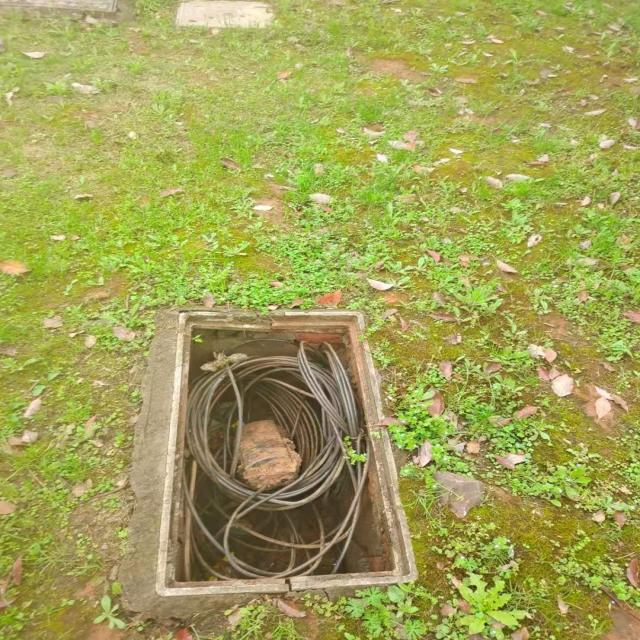Uncovered: (155, 308, 419, 594)
